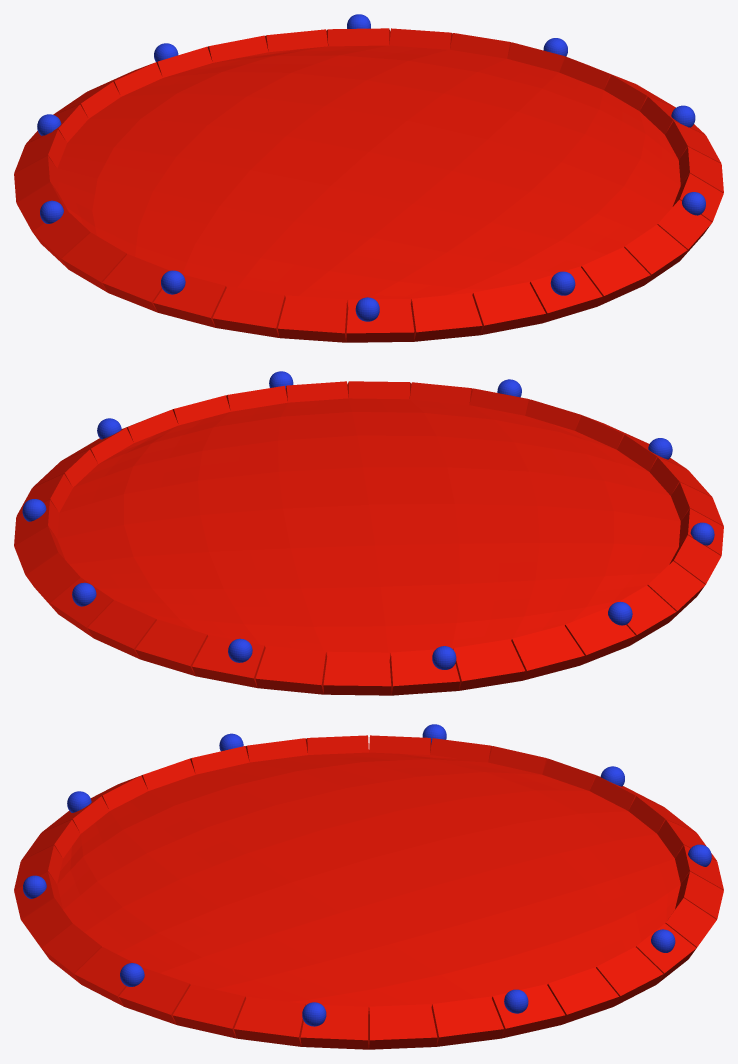
The model's file is Shield.fbx.
3 renders of one model, top to bottom at view 1: azimuth 30°, elevation 25°; view 2: azimuth 150°, elevation 25°; view 3: azimuth 270°, elevation 25°, orthographic.
Visible parts, largest first — view 1: Circle, Cube; view 2: Circle, Cube; view 3: Circle, Cube.
Part boxes in pixels (<box>): Circle: <box>14,28,723,342</box>; Cube: <box>37,14,705,321</box>; Circle: <box>14,381,723,695</box>; Cube: <box>22,371,714,669</box>; Circle: <box>14,735,723,1049</box>; Cube: <box>23,724,711,1026</box>.
Size of the model in its own units: 205 by 14.25 by 205.
